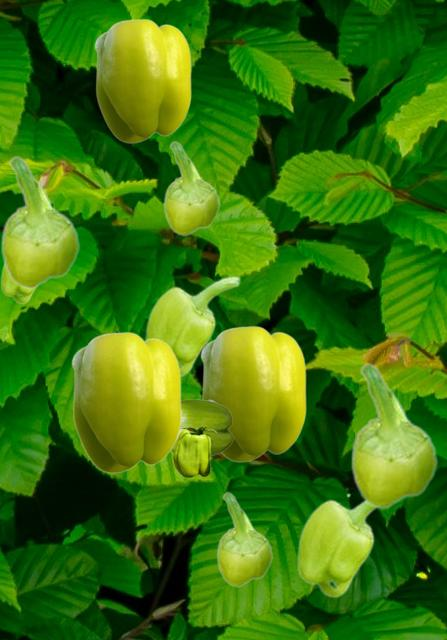bell_pepper: (71, 331, 180, 472), (200, 325, 305, 461), (350, 363, 437, 508), (94, 18, 190, 142), (0, 156, 79, 288), (144, 275, 240, 376), (296, 497, 377, 597), (163, 141, 219, 235), (216, 492, 272, 586), (171, 399, 232, 456), (173, 427, 215, 476), (0, 265, 36, 303)
